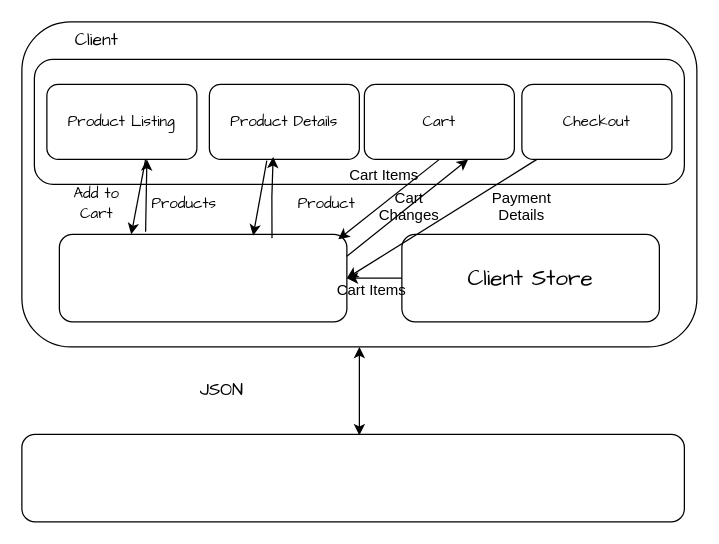
Image size: 719x544. Some labels were removed from this diagram. Here are the shapes that lost their labels. From the top down, the box of each, then its label:
(58, 233, 347, 322): Controller
(21, 433, 684, 522): Server
